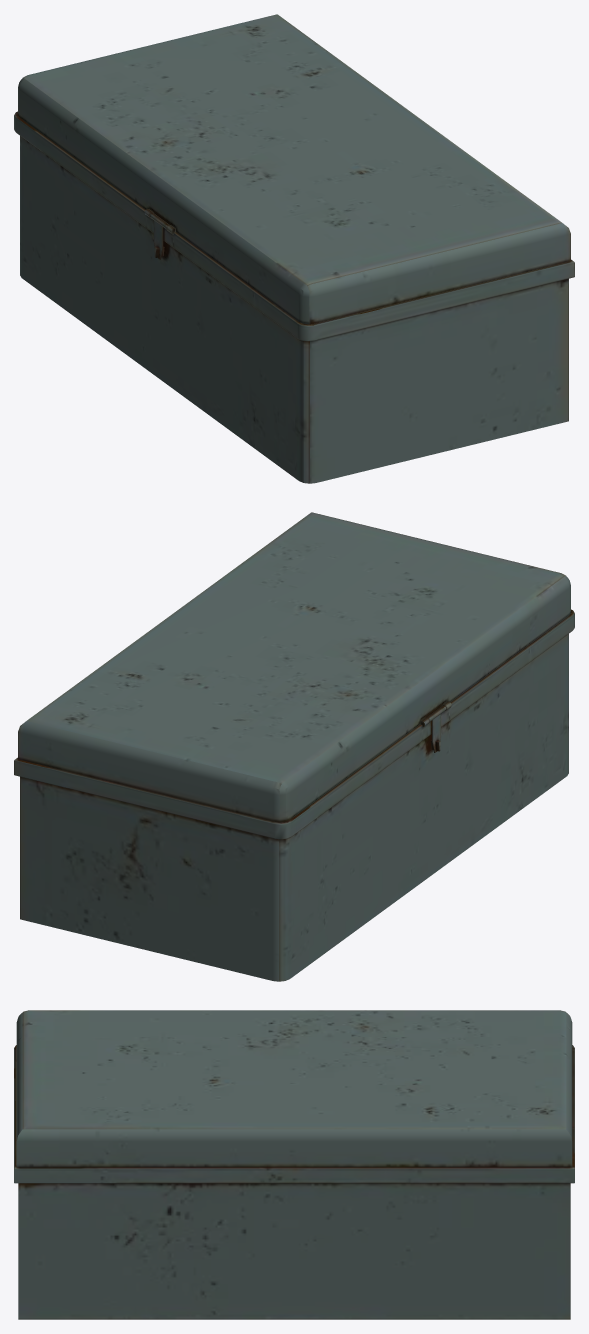
Rendered from trunk.glb.
3 views of the same model, one above another, from view 1: azimuth 30°, elevation 25°; view 2: azimuth 150°, elevation 25°; view 3: azimuth 270°, elevation 25° (orthographic). The views are drawn at different scales.
Parts seen in each view (by area): view 1: pCylinder78_sandook_0; view 2: pCylinder78_sandook_0; view 3: pCylinder78_sandook_0.
Boxes of the visible parts, x1=… form: pCylinder78_sandook_0: x1=14, y1=14, x2=574, y2=483; pCylinder78_sandook_0: x1=14, y1=512, x2=574, y2=981; pCylinder78_sandook_0: x1=14, y1=1010, x2=574, y2=1319.
Bounding box in the file's own units: 53.44 × 36.88 × 98.73.
1 material, 1 textured.
